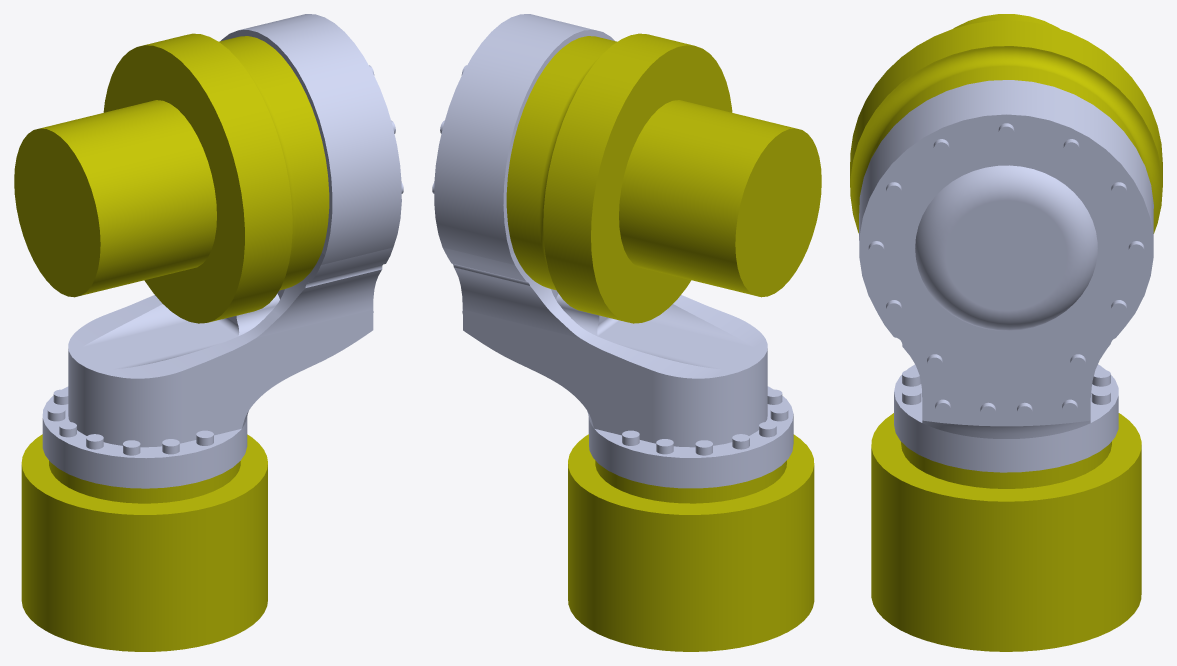
3 renders of one model, left to right at view 1: azimuth 30°, elevation 25°; view 2: azimuth 150°, elevation 25°; view 3: azimuth 270°, elevation 25°, orthographic. The views are drawn at different scales.
Visible parts, largest first — view 1: Actor0; view 2: Actor0; view 3: Actor0.
Boxes of the visible parts, x1=… form: Actor0: x1=14, y1=14, x2=403, y2=651; Actor0: x1=432, y1=14, x2=821, y2=651; Actor0: x1=850, y1=14, x2=1162, y2=651.
Size of the model in its own units: 0.112 by 0.1853 by 0.089.
